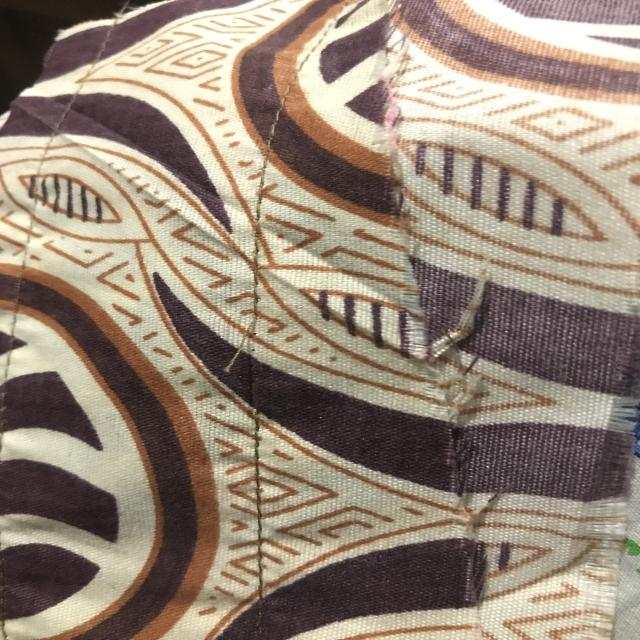broken: (203, 313, 281, 429)
good: (244, 454, 285, 575), (230, 198, 281, 282)
